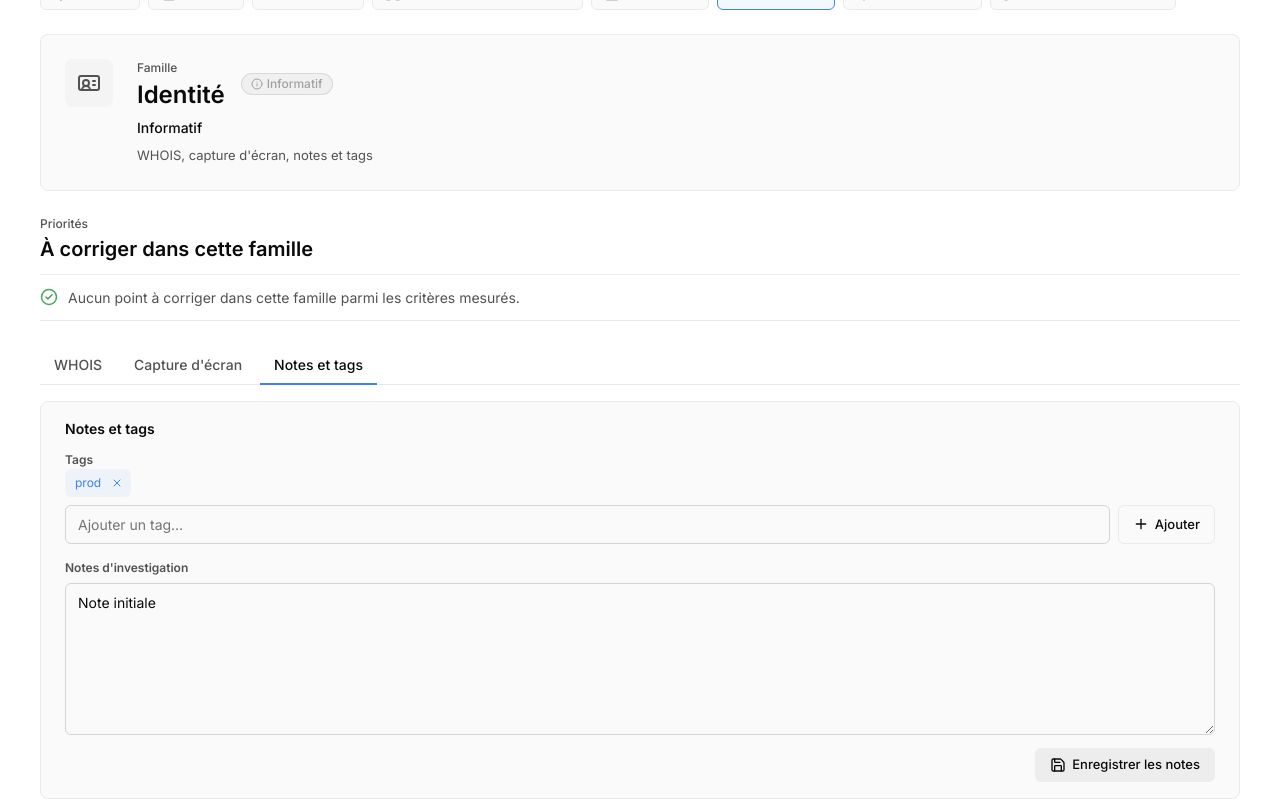
it: notes et tags › enregistre les notes
The width and height of the screenshot is (1280, 799).
(page scrolled)
Replace the text in the text box labelled "Notes d'investigation" with "Revoir le DMARC" at (640, 659), box x1=65 y1=583 x2=1215 y2=735
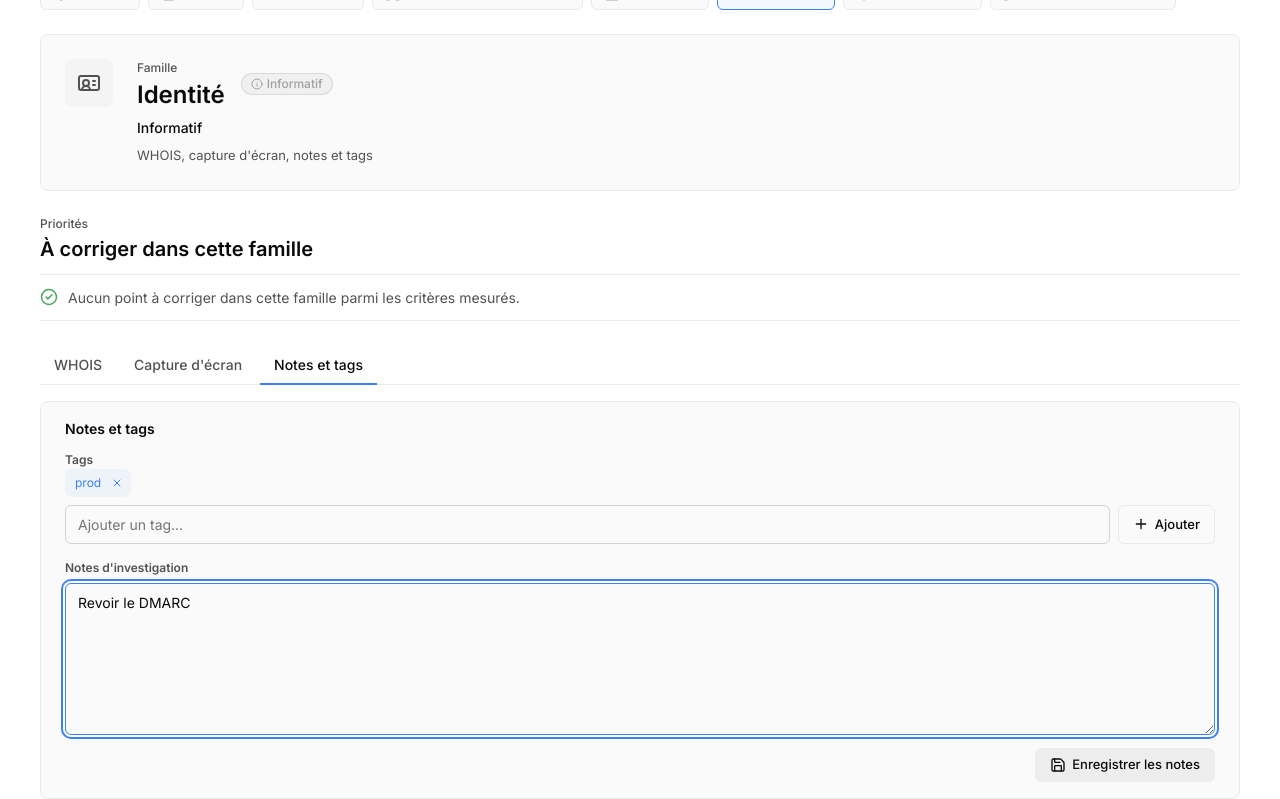
Click the button "Enregistrer les notes" at (1125, 765), box x1=1035 y1=748 x2=1215 y2=782
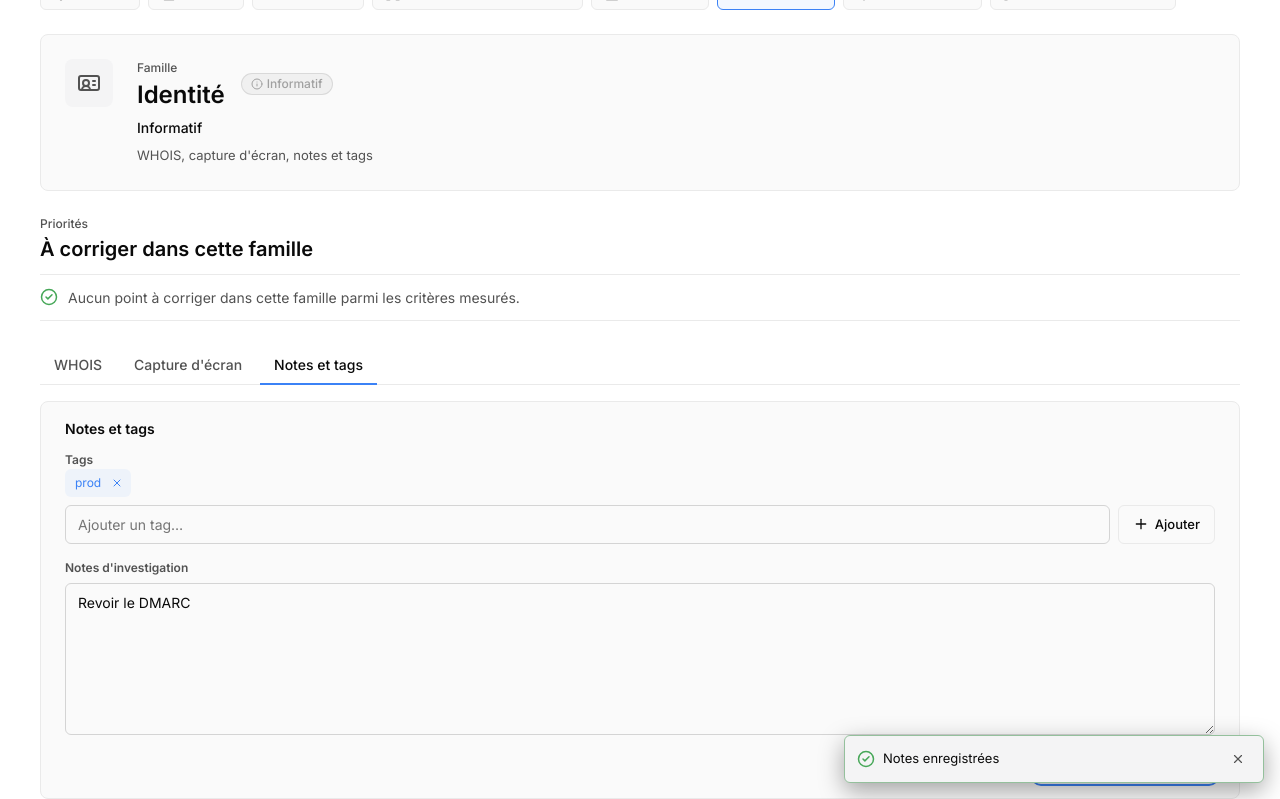
Now the text "Notes enregistrées" is shown, box x1=883 y1=750 x2=999 y2=766
